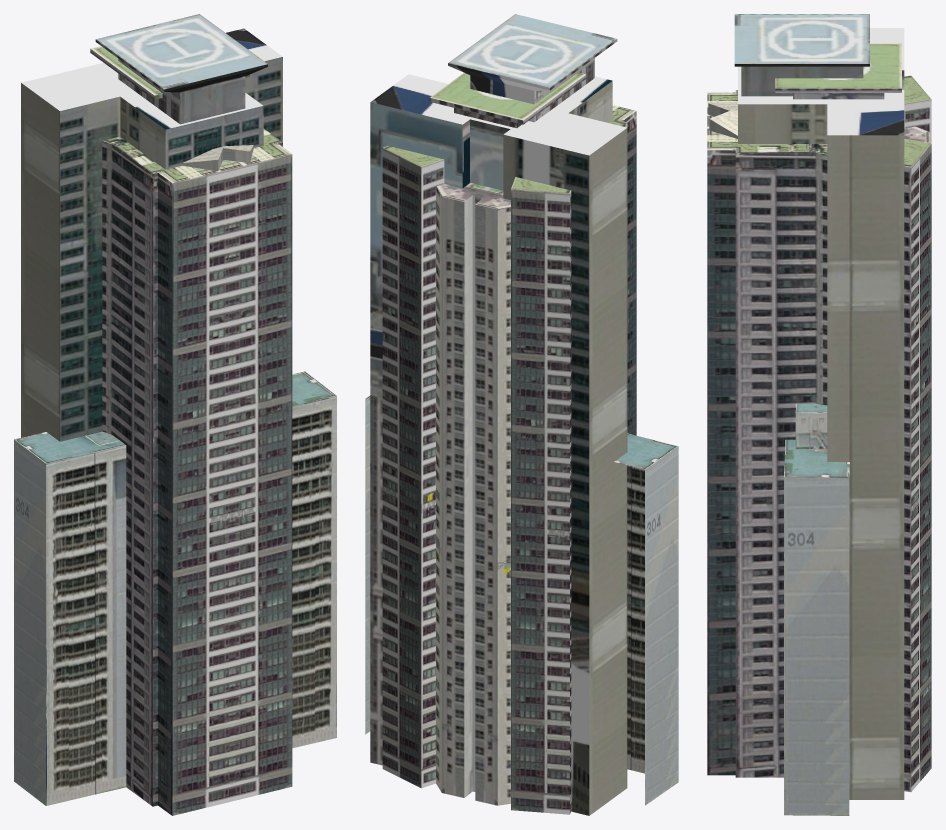
The model's file is apart.fbx.
The picture shows the model from 3 angles, left to right: view 1: azimuth 30°, elevation 25°; view 2: azimuth 150°, elevation 25°; view 3: azimuth 270°, elevation 25°; orthographic projection.
Parts seen in each view (by area): view 1: APTb_001, APe_001, APTc_001, APTa_001; view 2: APTb_001, APTc_001, APTa_001, APe_001; view 3: APTb_001, APTc_001, APe_001, APTa_001.
Part boxes in pixels (x1,y1,x2,y2): APTb_001: [90, 46, 292, 815]; APe_001: [14, 371, 336, 805]; APTc_001: [21, 14, 282, 441]; APTa_001: [182, 145, 253, 171]; APTb_001: [382, 72, 636, 814]; APTc_001: [370, 14, 627, 815]; APTa_001: [436, 182, 510, 805]; APe_001: [365, 395, 678, 805]; APTb_001: [707, 43, 931, 791]; APTc_001: [734, 14, 904, 799]; APe_001: [784, 403, 849, 815]; APTa_001: [708, 102, 929, 142].
Size of the model in its own units: 3007 by 7102 by 2047.
